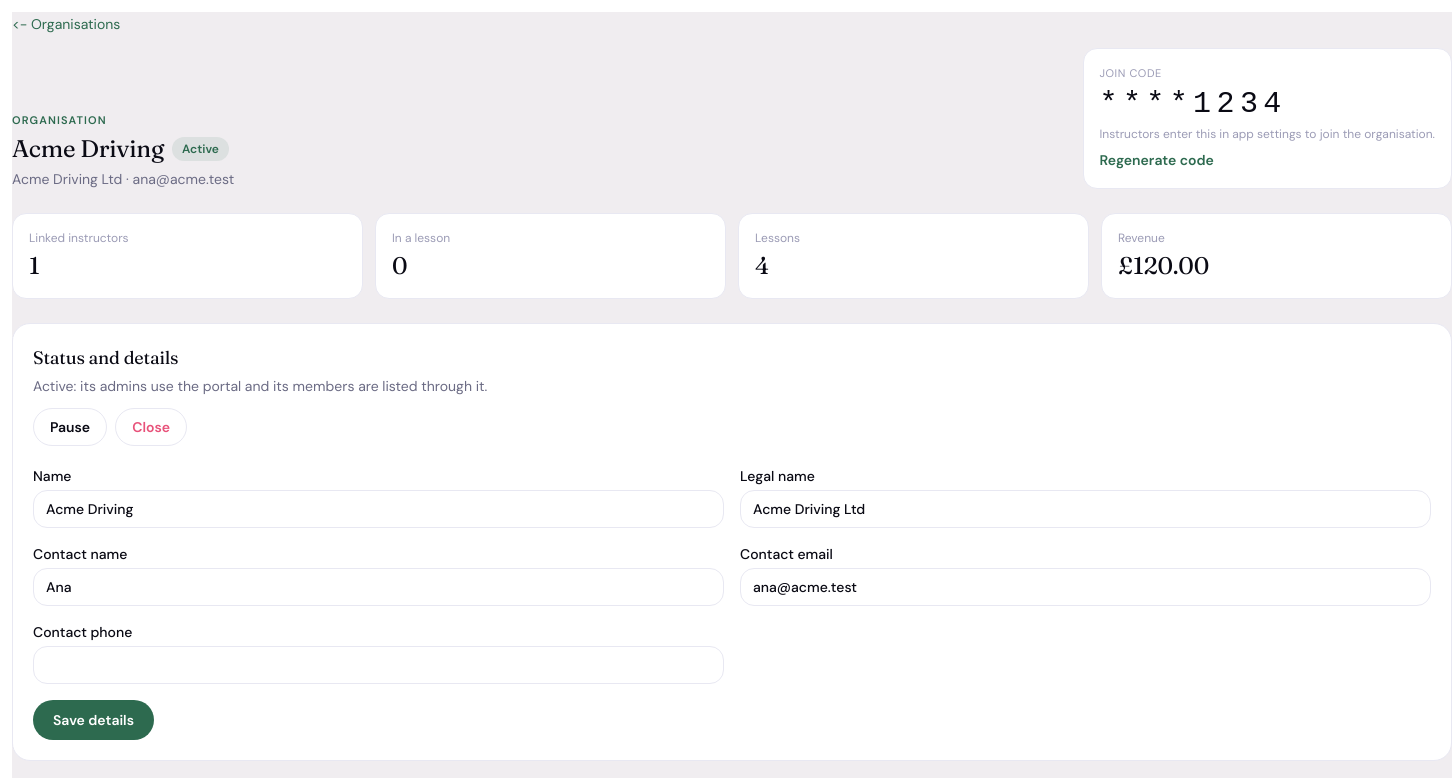
it: ops organisation status and details › refuses a malformed contact email before the round trip
The width and height of the screenshot is (1452, 778).
Replace the text in the field labelled "Contact email" with "ana@" at (1086, 586), box [740, 568, 1431, 606]
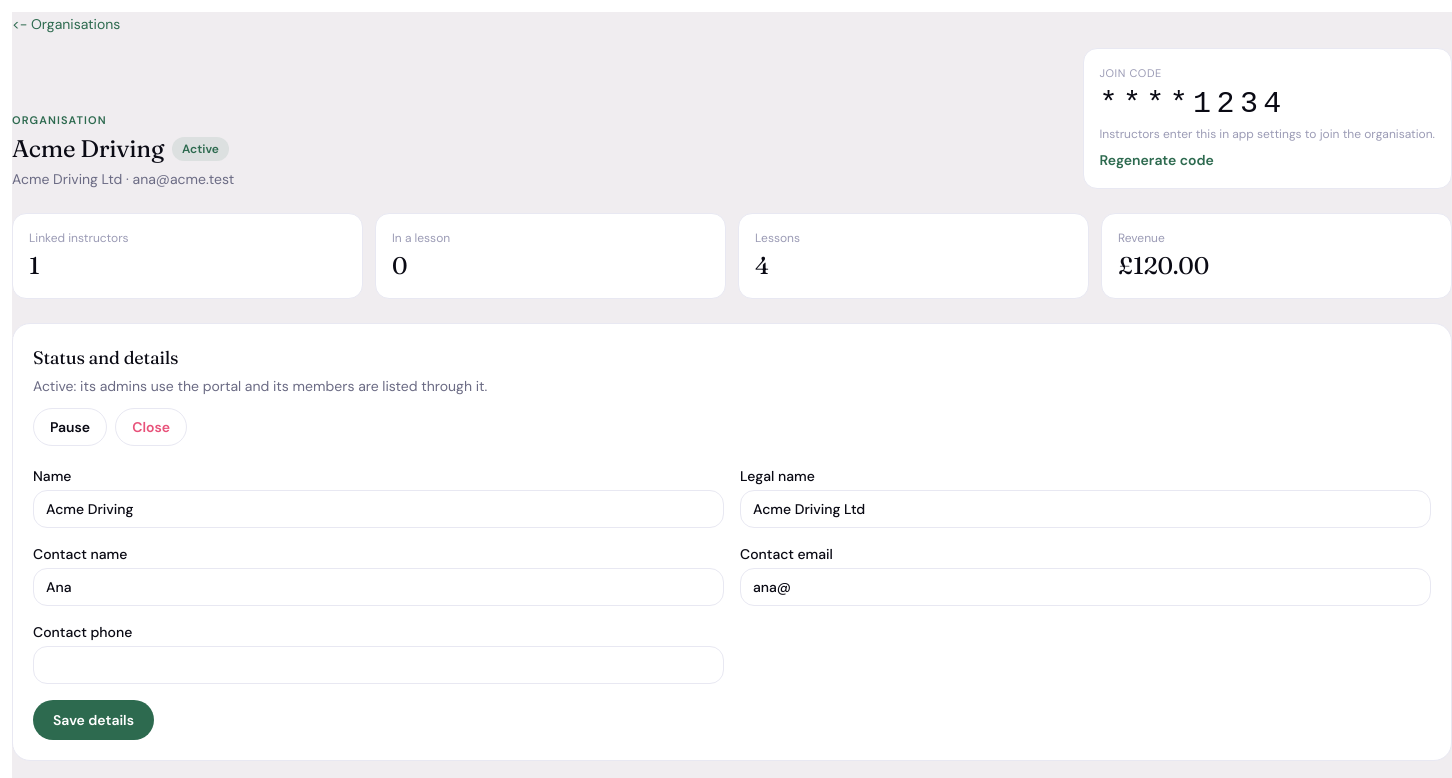
Submit the form named "School details", box [33, 466, 1431, 740]
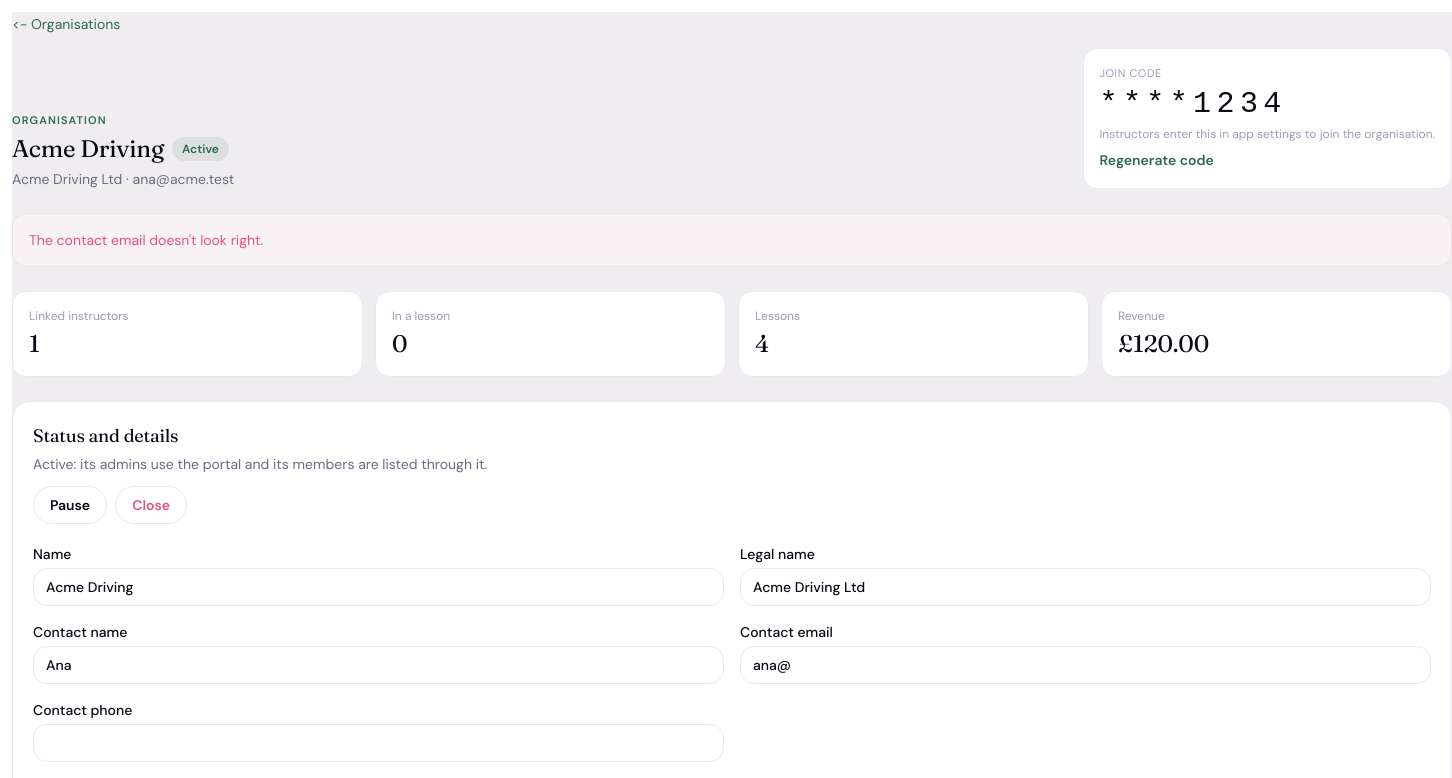
Expected: the text "The contact email doesn't look right." is shown, [12, 212, 1451, 266]
